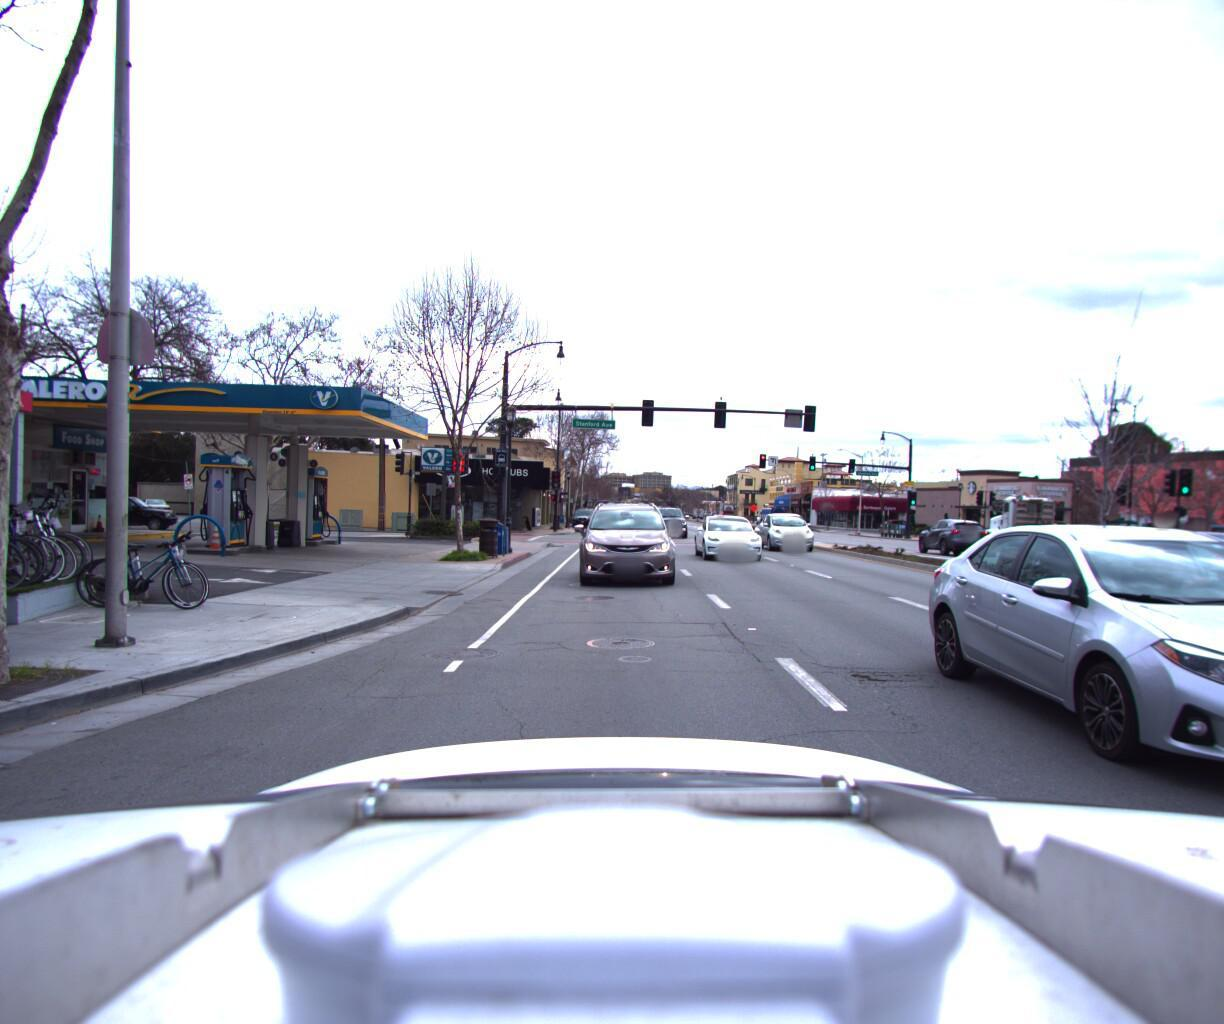bicycle: (74, 524, 213, 607), (83, 520, 216, 601), (0, 490, 84, 575), (0, 493, 77, 578), (0, 485, 68, 580), (0, 492, 55, 583), (0, 492, 46, 585), (0, 491, 37, 587), (0, 528, 4, 644)
car: (961, 507, 1224, 957), (567, 488, 674, 590), (1113, 522, 1224, 591), (1058, 515, 1164, 560), (697, 510, 775, 563), (912, 513, 995, 554), (762, 508, 827, 553), (1189, 520, 1224, 580), (653, 502, 692, 539), (573, 503, 595, 525)
truck: (961, 478, 1224, 596)
